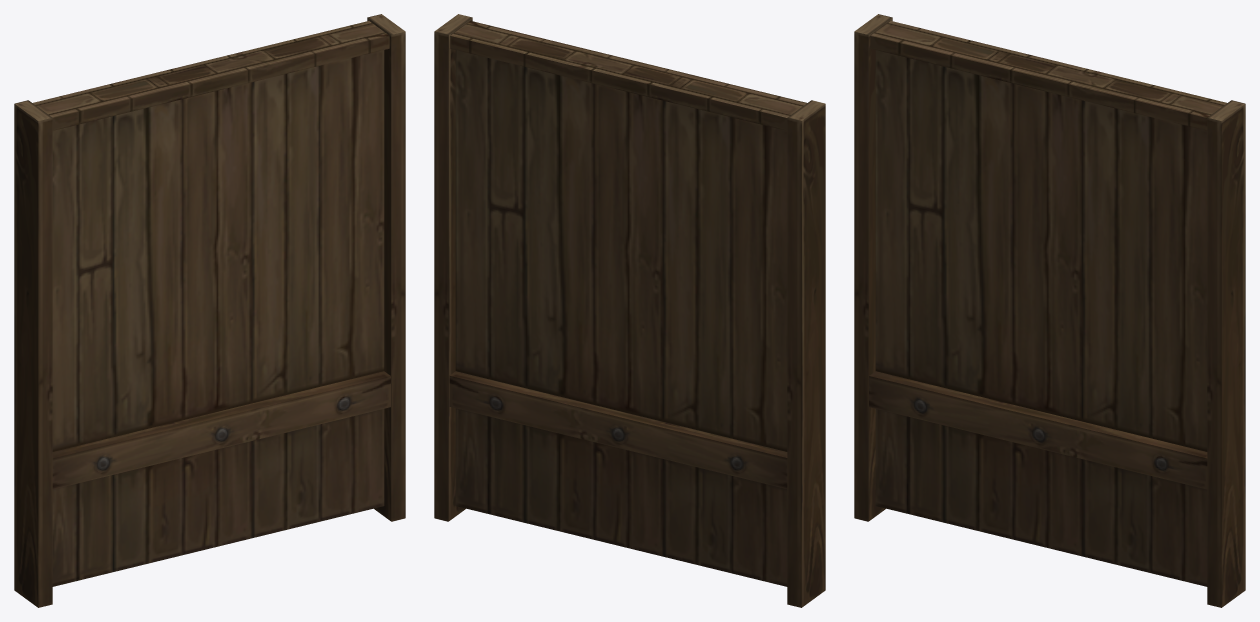
The model's file is mf_wall021.FBX.
3 renders of one model, left to right at view 1: azimuth 30°, elevation 25°; view 2: azimuth 150°, elevation 25°; view 3: azimuth 330°, elevation 25°, orthographic.
Parts seen in each view (by area): view 1: mf_wall021; view 2: mf_wall021; view 3: mf_wall021.
Boxes of the visible parts, x1,y1,x2,y2 form: mf_wall021: (14,14,405,607); mf_wall021: (434,14,825,607); mf_wall021: (854,14,1245,607).
Size of the model in its own units: 1.99 by 2.52 by 0.2251.
